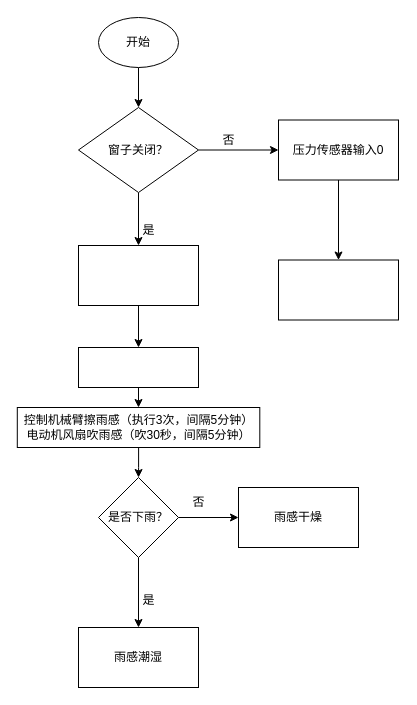
This 417x705 diagram has some shape labels left out. Here are the shapes that lost their labels. From the top down, the box of each, then its label:
(78, 244, 198, 306): 压力传感器输入1
(278, 259, 398, 320): 停止机械臂工作
(78, 346, 198, 388): 控制器读取压力值
